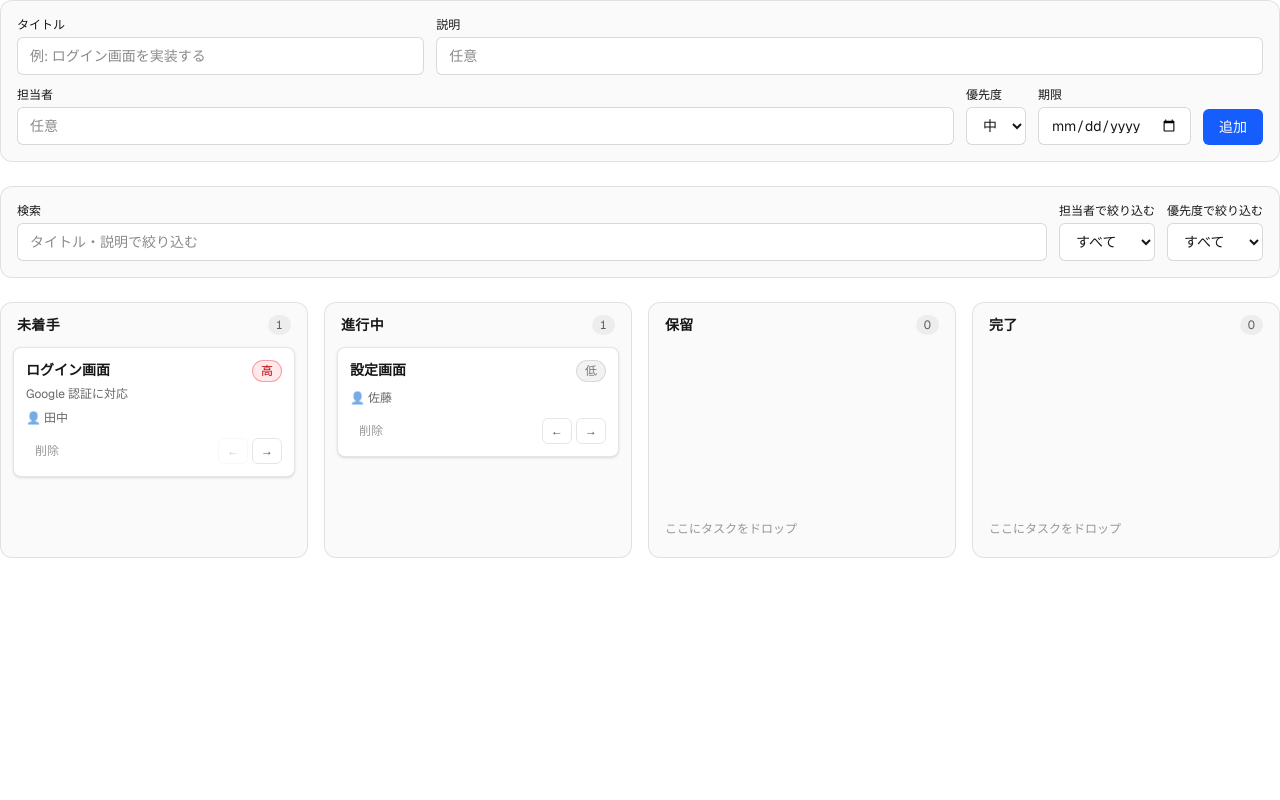
Test: Board の絞り込み › 説明に含まれるキーワードでも絞り込める
Type "認証" into the search field labelled "検索" at (532, 242), box [17,223,1047,261]
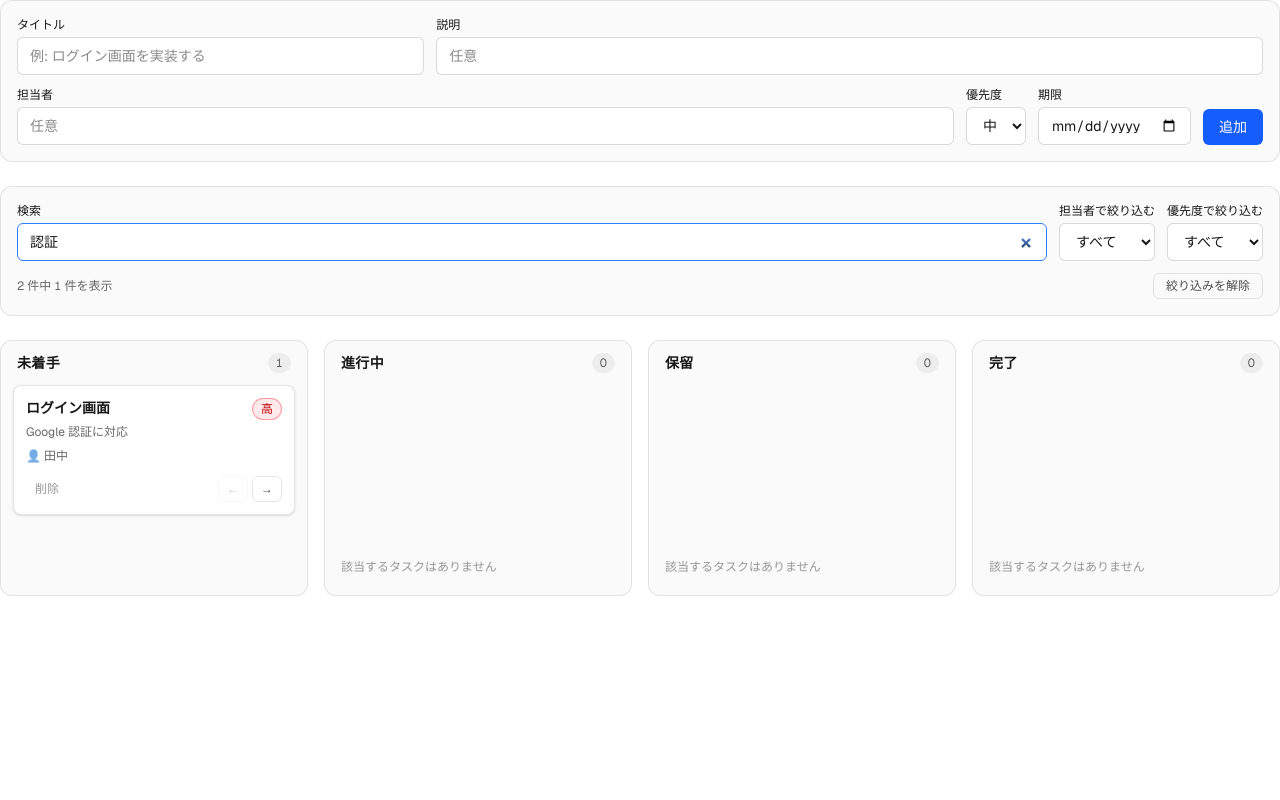
expect the heading "ログイン画面" is shown: met, box [26,398,110,418]
expect the heading "設定画面" is gone: met
